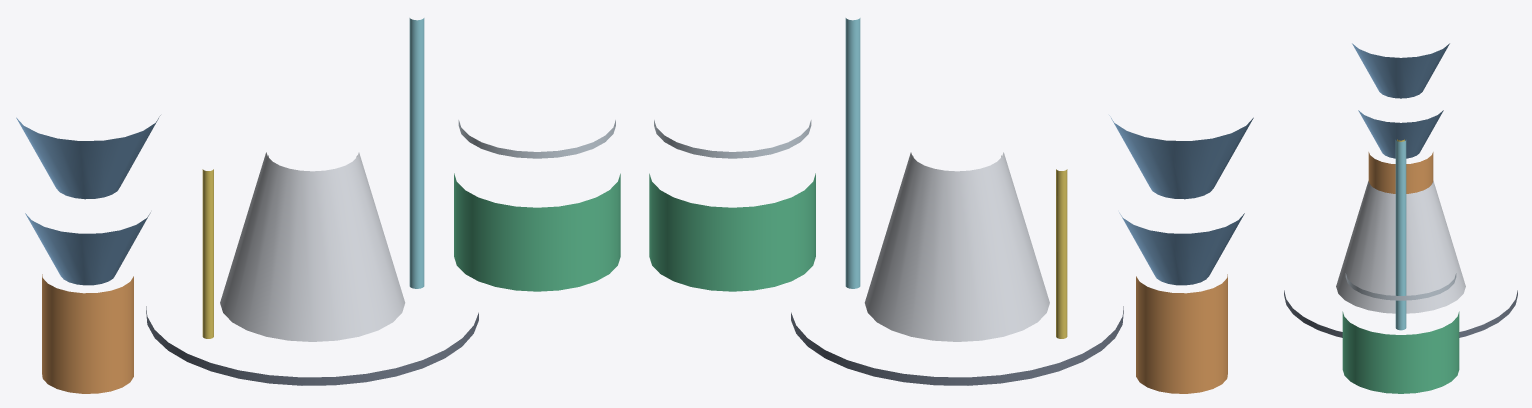
The model's file is concrete_workability.glb.
3 views of the same model, side by side, from view 1: azimuth 30°, elevation 25°; view 2: azimuth 150°, elevation 25°; view 3: azimuth 270°, elevation 25° (orthographic). The views are drawn at different scales.
Visible parts, largest first — view 1: SlumpCone, VeeBeePot, CylinderMould, UpperHopper, TampingRod, LowerHopper, BasePlate, HeightGauge, VeeBeeRiderDisc; view 2: SlumpCone, VeeBeePot, CylinderMould, UpperHopper, TampingRod, LowerHopper, BasePlate, HeightGauge, VeeBeeRiderDisc; view 3: SlumpCone, VeeBeePot, UpperHopper, TampingRod, LowerHopper, CylinderMould, BasePlate, VeeBeeRiderDisc.
Part boxes in pixels (bbox=[...]): SlumpCone: bbox=[220, 152, 405, 341]; VeeBeePot: bbox=[454, 173, 620, 291]; CylinderMould: bbox=[42, 274, 133, 393]; UpperHopper: bbox=[16, 115, 160, 199]; TampingRod: bbox=[409, 18, 424, 288]; LowerHopper: bbox=[25, 212, 150, 285]; BasePlate: bbox=[146, 306, 478, 385]; HeightGauge: bbox=[202, 169, 213, 338]; VeeBeeRiderDisc: bbox=[458, 120, 615, 158]; SlumpCone: bbox=[864, 152, 1049, 341]; VeeBeePot: bbox=[649, 173, 815, 291]; CylinderMould: bbox=[1136, 274, 1227, 393]; UpperHopper: bbox=[1109, 115, 1253, 199]; TampingRod: bbox=[845, 18, 860, 288]; LowerHopper: bbox=[1119, 212, 1244, 285]; BasePlate: bbox=[791, 306, 1123, 385]; HeightGauge: bbox=[1056, 169, 1067, 338]; VeeBeeRiderDisc: bbox=[654, 120, 811, 158]; SlumpCone: bbox=[1336, 181, 1465, 313]; VeeBeePot: bbox=[1342, 311, 1459, 393]; UpperHopper: bbox=[1352, 43, 1449, 98]; TampingRod: bbox=[1395, 140, 1406, 330]; LowerHopper: bbox=[1358, 110, 1443, 158]; CylinderMould: bbox=[1368, 152, 1433, 193]; BasePlate: bbox=[1284, 290, 1517, 337]; VeeBeeRiderDisc: bbox=[1345, 273, 1456, 300].
Bounding box in the file's own units: 7.3 × 3.3 × 3.6.
